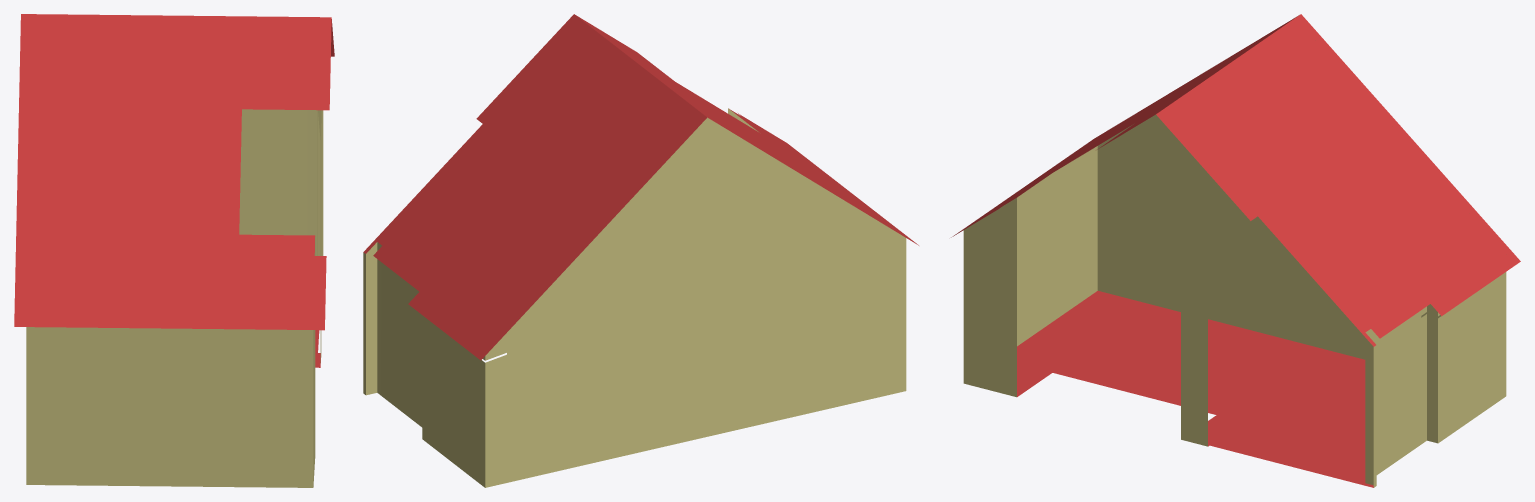
3 renders of one model, left to right at view 1: azimuth 30°, elevation 25°; view 2: azimuth 150°, elevation 25°; view 3: azimuth 270°, elevation 25°, orthographic. The views are drawn at different scales.
Bounding box in the file's own units: 22.77 × 27.06 × 16.91.
